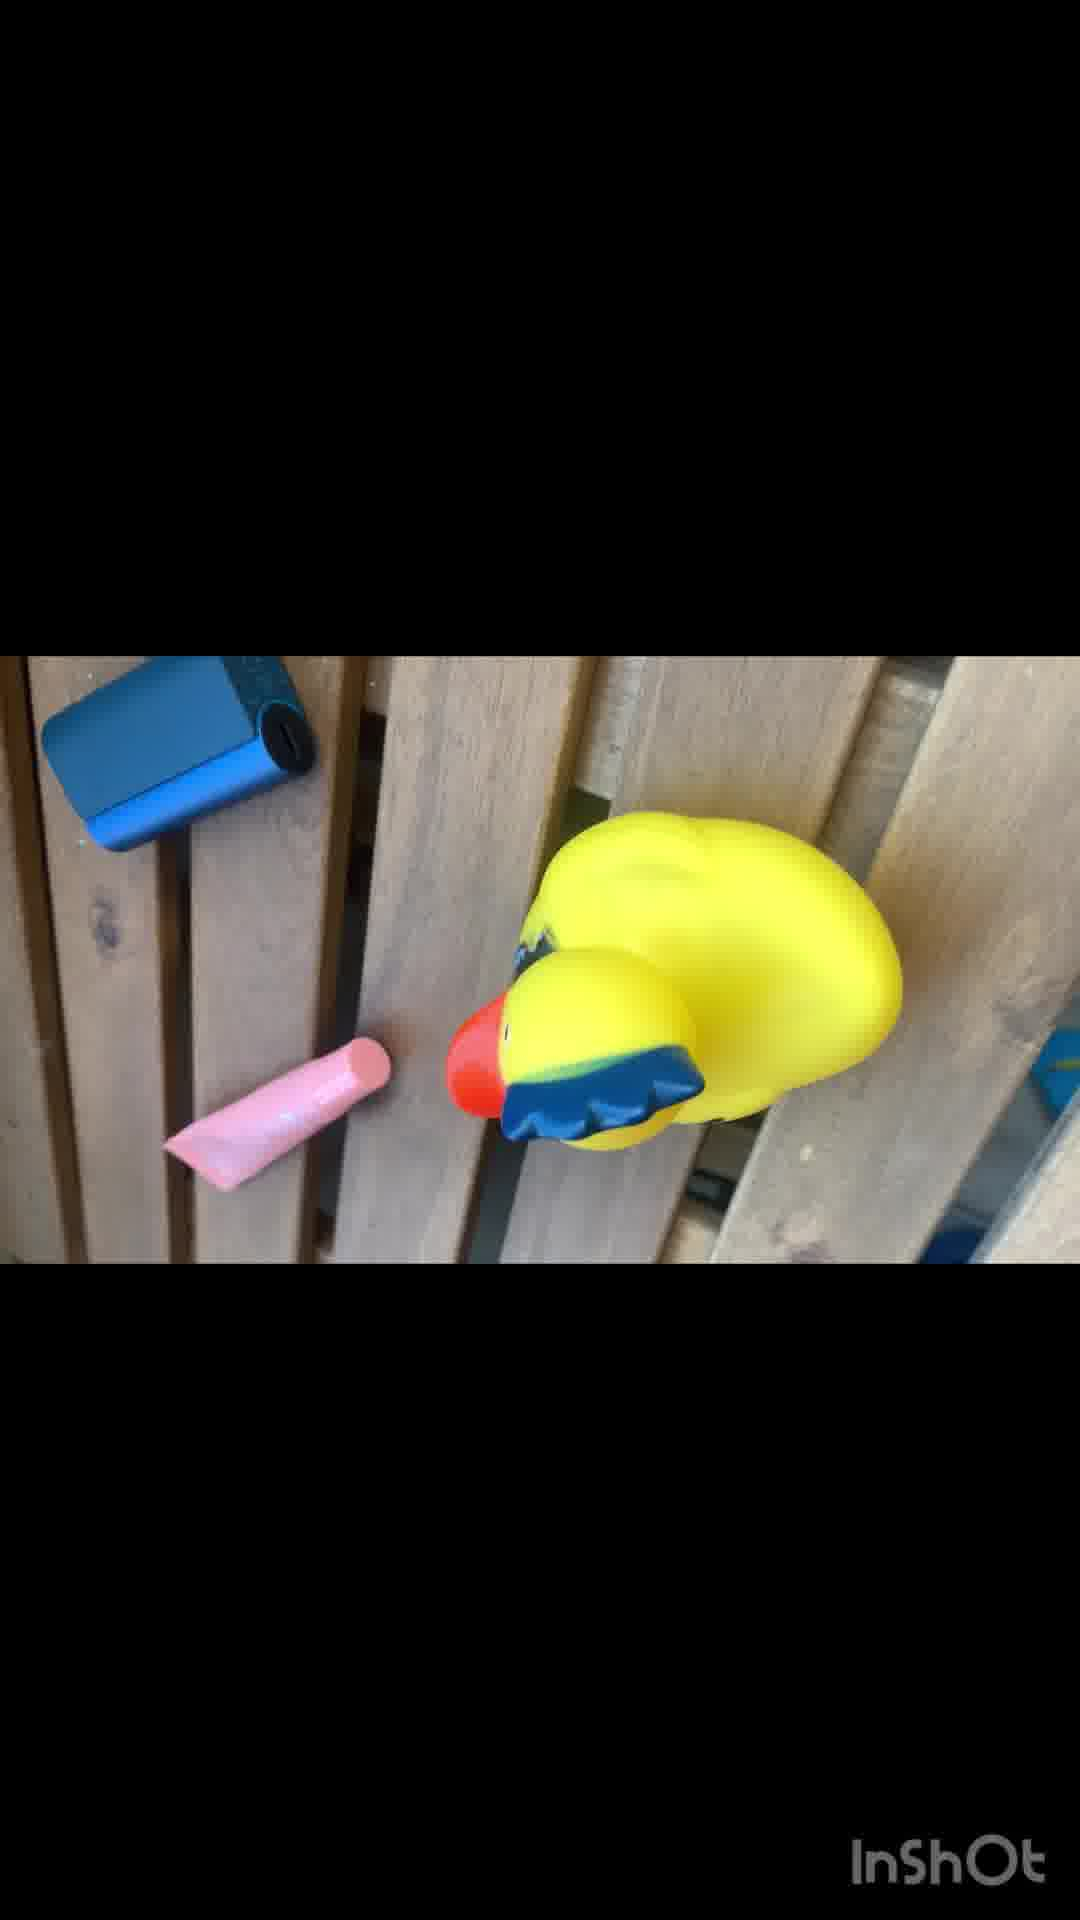duck: (444, 793, 903, 1175)
glo: (28, 649, 326, 858)
lip balm: (174, 1040, 386, 1200)
